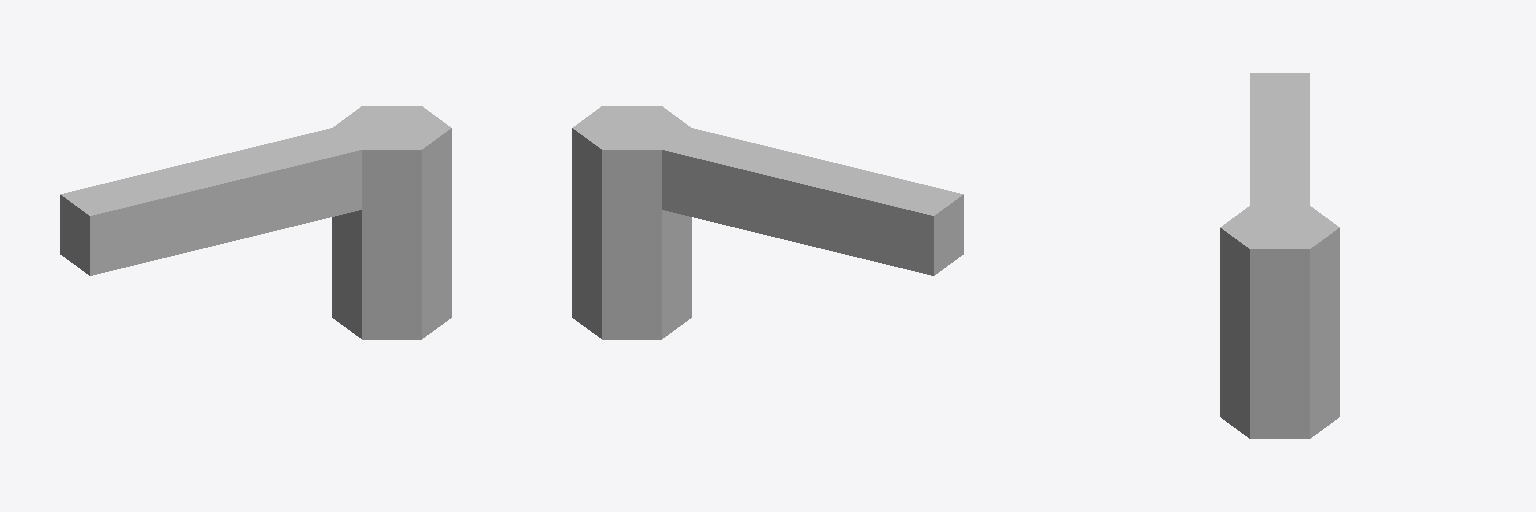
Rendered from DistilledWaterContainer_Valve_Openned.obj.
3 views of the same model, side by side, from view 1: azimuth 30°, elevation 25°; view 2: azimuth 150°, elevation 25°; view 3: azimuth 270°, elevation 25° (orthographic).
Visible parts, largest first — view 1: Mesh1 Model; view 2: Mesh1 Model; view 3: Mesh1 Model.
Part boxes in pixels (bbox=[...]): Mesh1 Model: bbox=[60, 106, 451, 339]; Mesh1 Model: bbox=[572, 106, 963, 339]; Mesh1 Model: bbox=[1220, 73, 1339, 438].
Bounding box in the file's own units: 0.0399 × 0.02 × 0.0114.